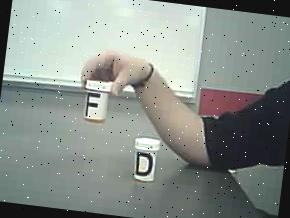Bottle D: (127, 134, 164, 186)
Bottle F: (78, 73, 117, 131)
